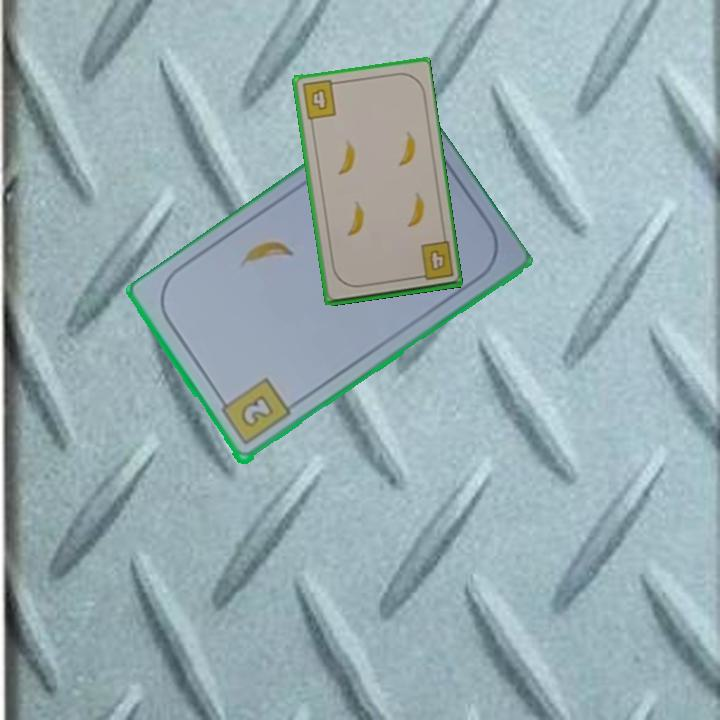2b: (215, 375, 293, 449)
4b: (411, 238, 456, 283), (299, 77, 341, 122)
